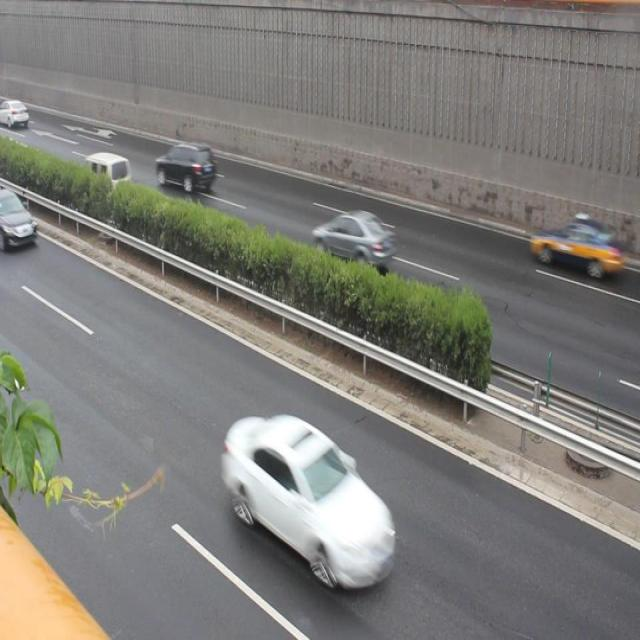car: (223, 412, 396, 586), (529, 217, 624, 278), (311, 209, 396, 272), (155, 143, 218, 195), (1, 186, 38, 248)
truck: (75, 153, 133, 207)
